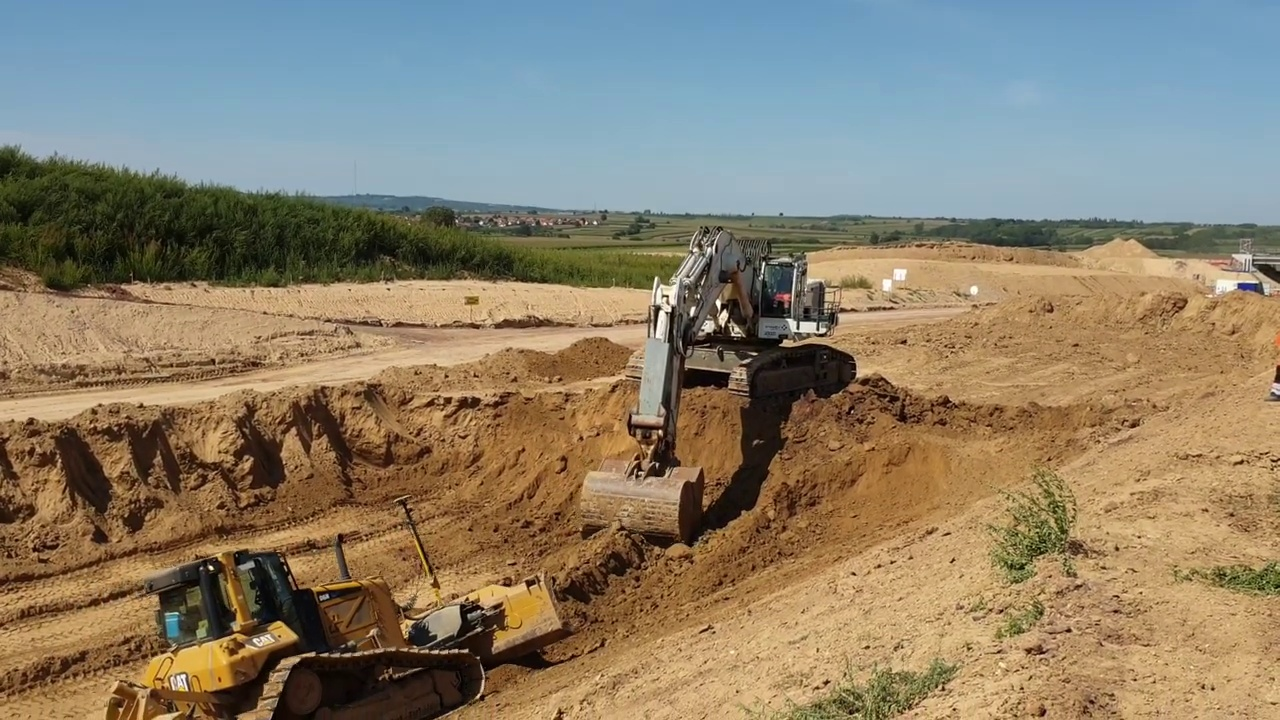bulldozer: (101, 493, 564, 720)
excavator: (576, 223, 856, 554)
